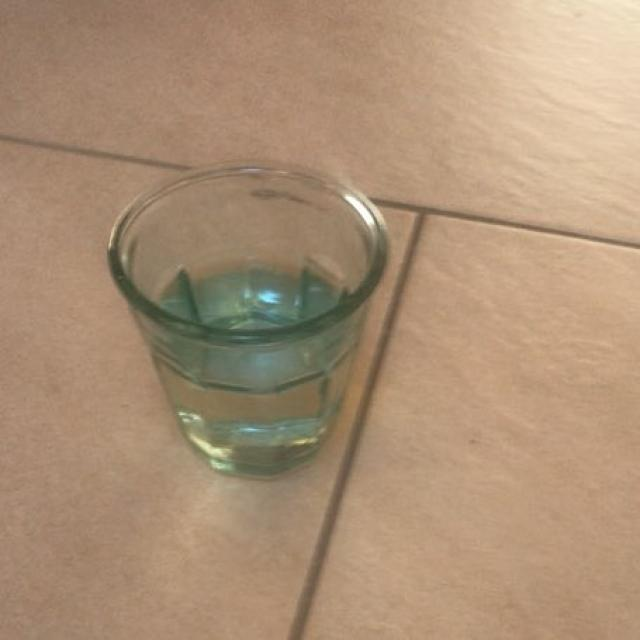water: (144, 254, 357, 467)
